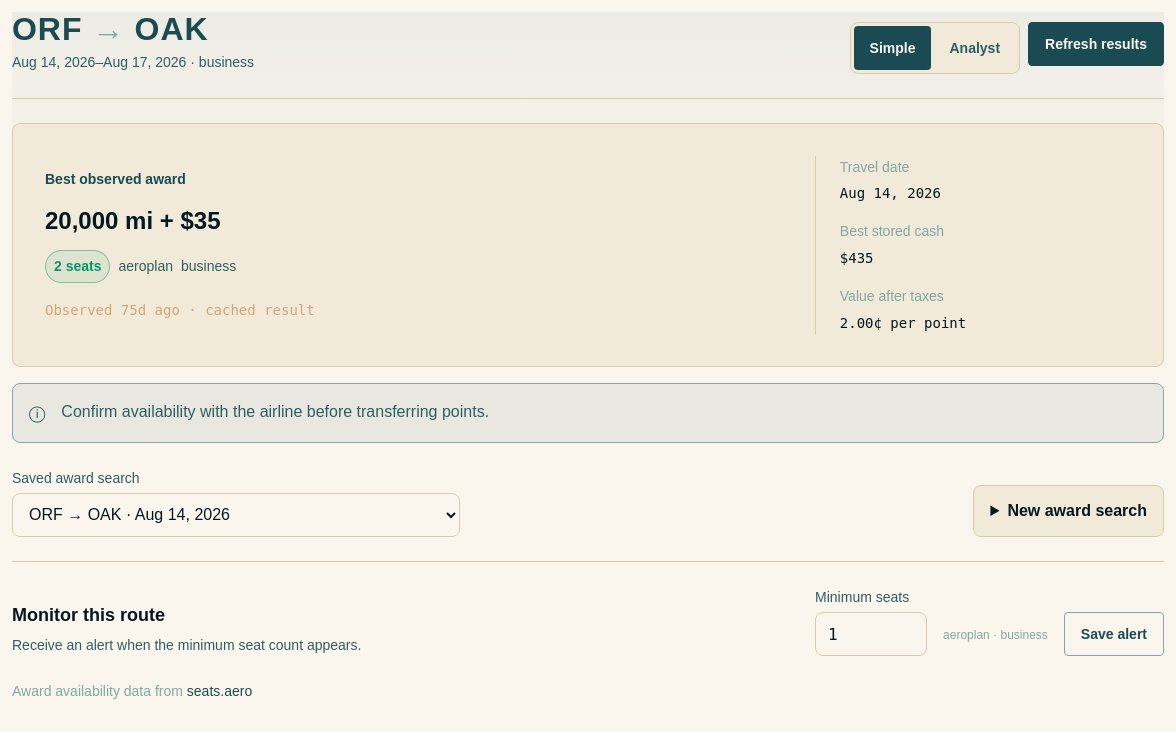
Test: AwardWorkspace › keeps observations visible when a provider-disabled refresh is rejected
This screenshot has width=1176, height=732.
Expected: the heading "20,000 mi + $35" is shown, [45,207,220,234]
Click the button "Refresh results": (1096, 44) [1028,22,1164,66]
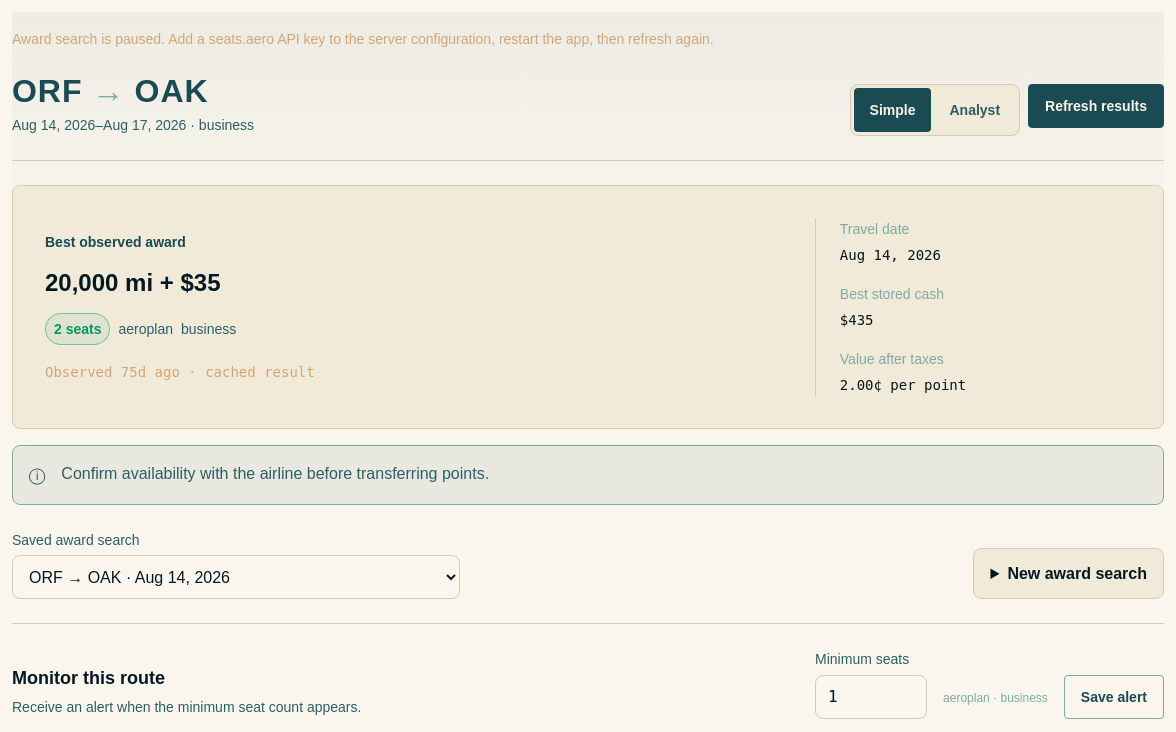
Expected: the heading "20,000 mi + $35" is shown, [45,269,220,296]
Expected: the text "Award search is paused" is shown once, [12,31,714,47]
